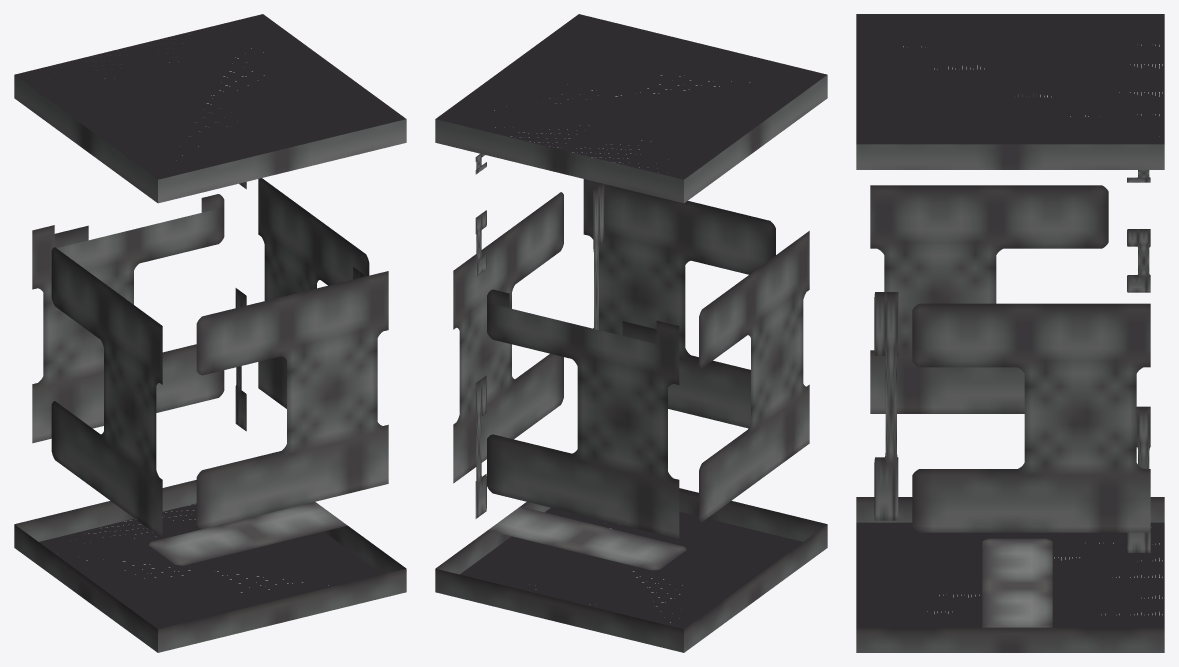
Rendered from tier_1_rocket_base.obj.
3 renders of one model, left to right at view 1: azimuth 30°, elevation 25°; view 2: azimuth 150°, elevation 25°; view 3: azimuth 270°, elevation 25°, orthographic. The views are drawn at different scales.
Visible parts, largest first — view 1: RocketBody_Cube.023; view 2: RocketBody_Cube.023; view 3: RocketBody_Cube.023.
Boxes of the visible parts, box(x1,y1,x2,y2) form: RocketBody_Cube.023: box(14, 14, 406, 652); RocketBody_Cube.023: box(435, 14, 827, 652); RocketBody_Cube.023: box(856, 14, 1164, 652).
Size of the model in its own units: 1.38 by 2.5 by 1.38.
